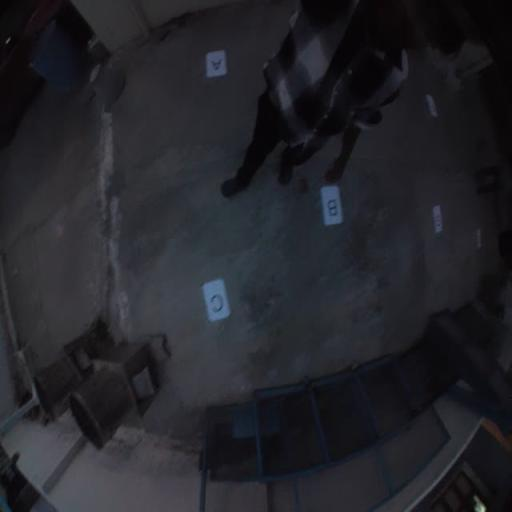A: (206, 50, 226, 77)
B: (321, 186, 343, 226)
C: (202, 280, 232, 321)
